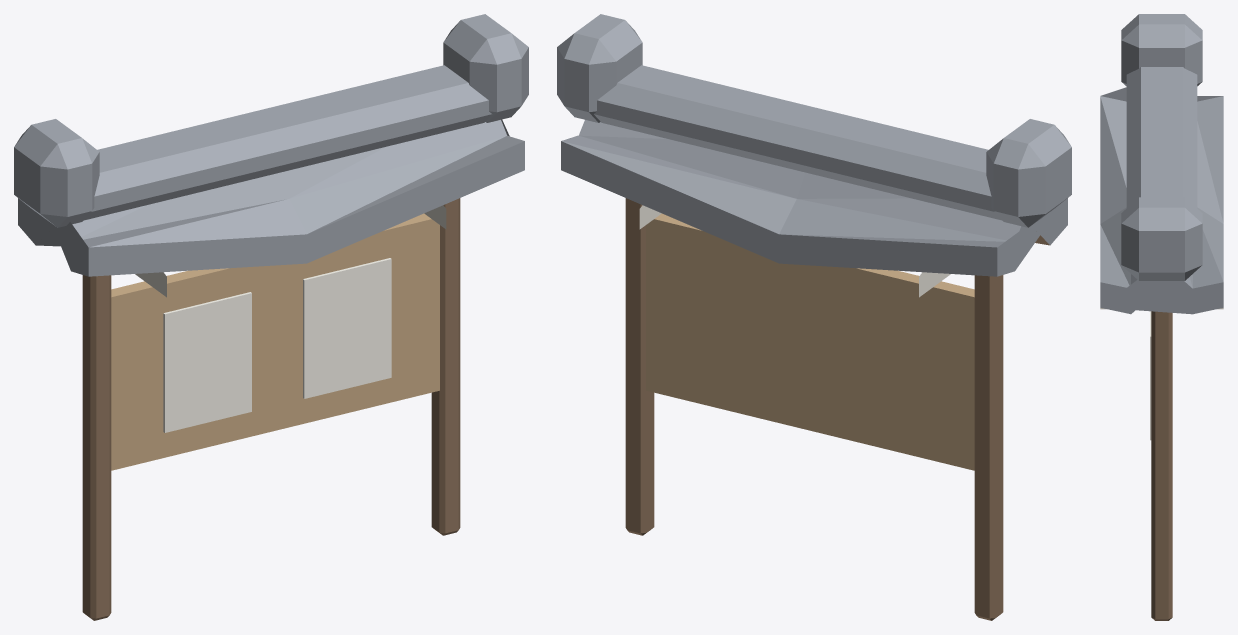
The model's file is notice-board.glb.
3 renders of one model, left to right at view 1: azimuth 30°, elevation 25°; view 2: azimuth 150°, elevation 25°; view 3: azimuth 270°, elevation 25°, orthographic. The views are drawn at different scales.
Visible parts, largest first — view 1: notice-board; view 2: notice-board; view 3: notice-board.
Boxes of the visible parts, left/top/right/bottom form: notice-board: left=14, top=14, right=528, bottom=620; notice-board: left=557, top=14, right=1071, bottom=620; notice-board: left=1100, top=14, right=1223, bottom=620.
Bounding box in the file's own units: 2.8 × 2.71 × 0.7001.
